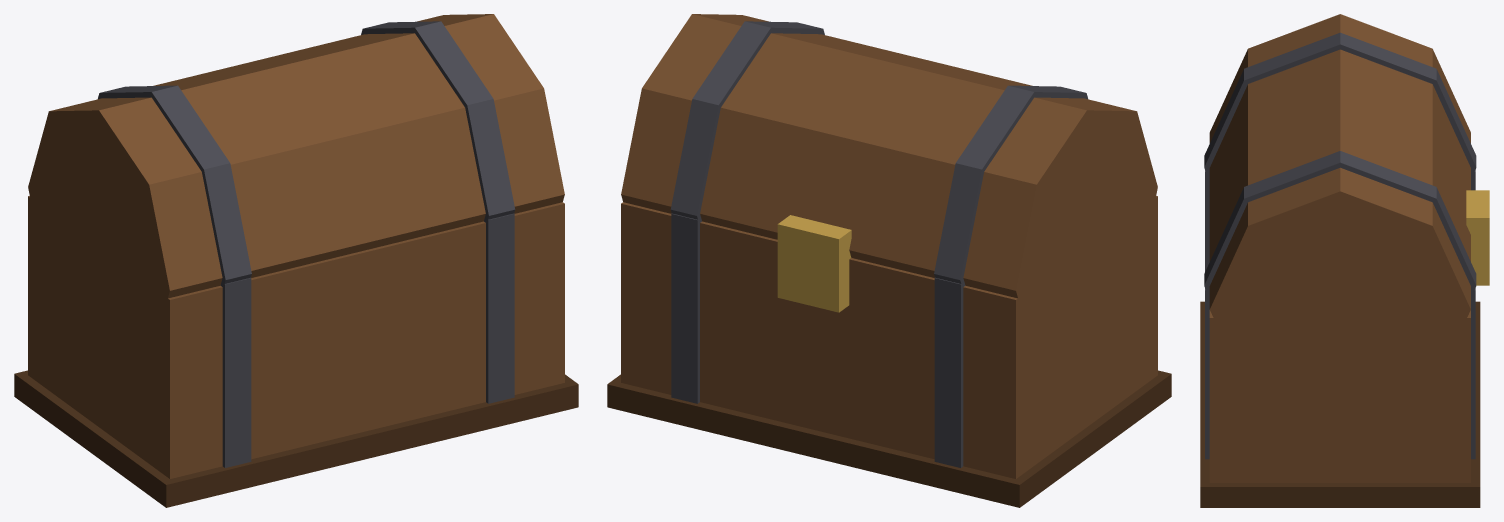
File: chest.glb
The picture shows the model from 3 angles, left to right: view 1: azimuth 30°, elevation 25°; view 2: azimuth 150°, elevation 25°; view 3: azimuth 270°, elevation 25°; orthographic projection. The views are drawn at different scales.
Visible parts, largest first — view 1: Chest_Body; view 2: Chest_Body; view 3: Chest_Body.
Part boxes in pixels (x1,y1,x2,y2): Chest_Body: [14, 14, 578, 507]; Chest_Body: [607, 14, 1171, 507]; Chest_Body: [1200, 14, 1489, 507].
Size of what is drawn, in the model's own units: 0.94 by 0.752 by 0.62.
